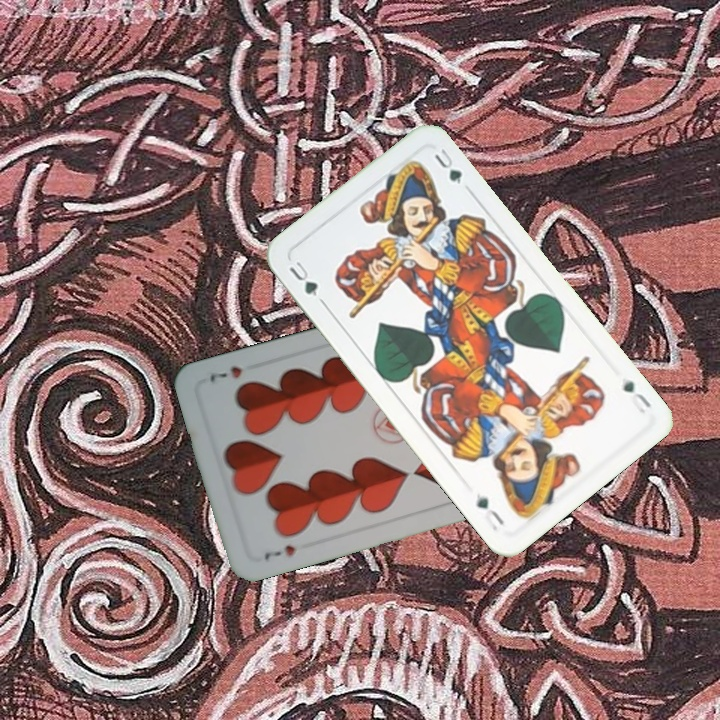GU: (285, 257, 321, 299), (619, 375, 654, 416)
H7: (260, 541, 298, 563)
